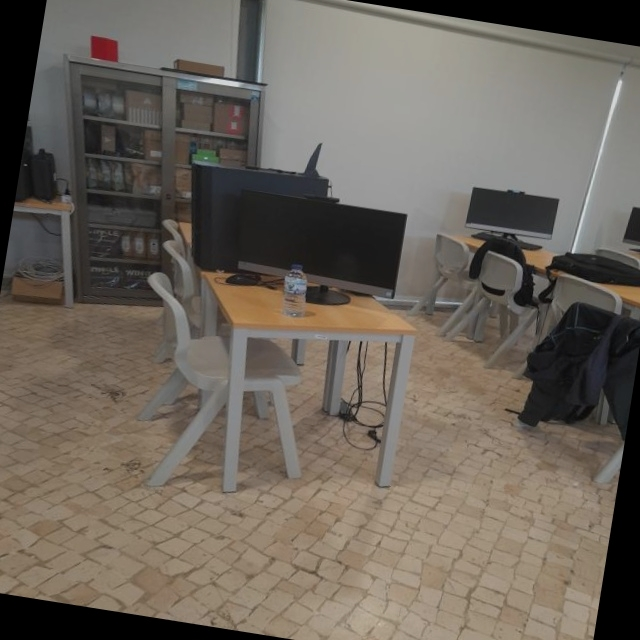Plastic-bottle: (270, 265, 310, 328)
